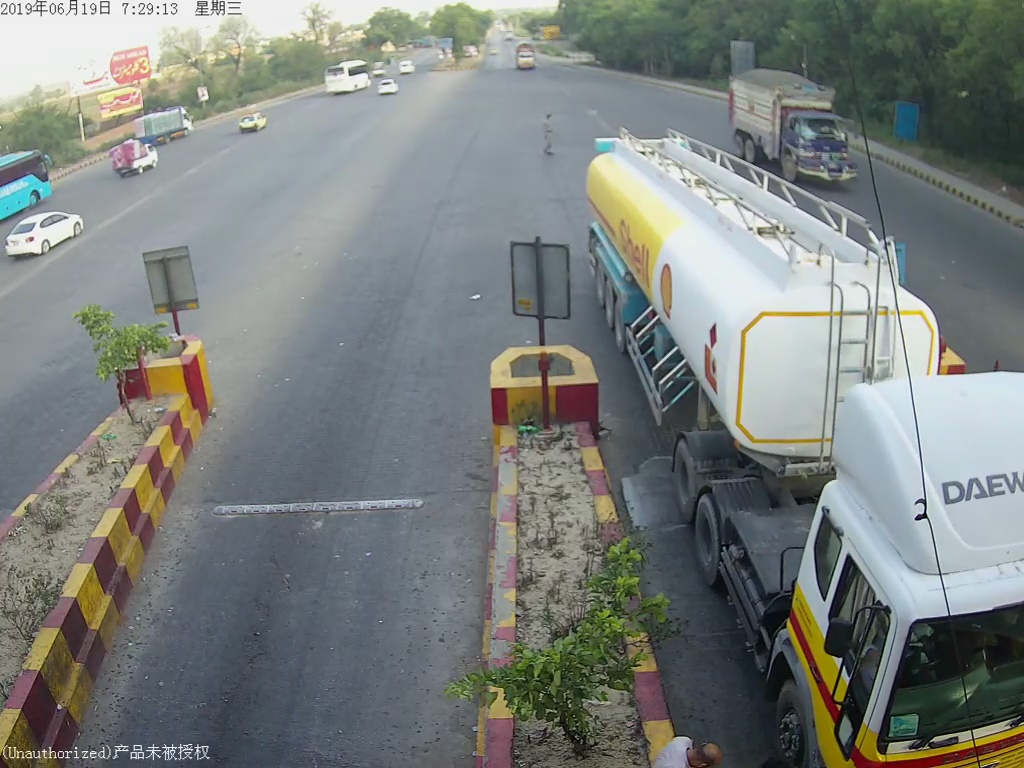Cat-4: (509, 45, 545, 78)
Cat-5: (583, 131, 1024, 671)
